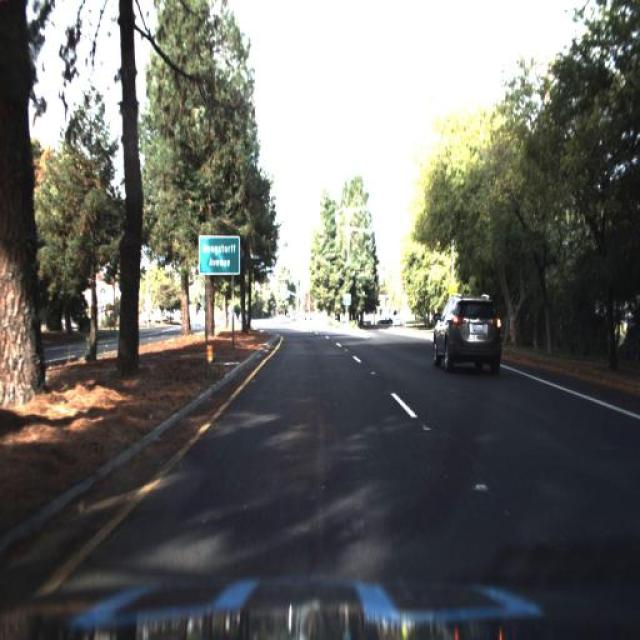car: (432, 292, 502, 376)
